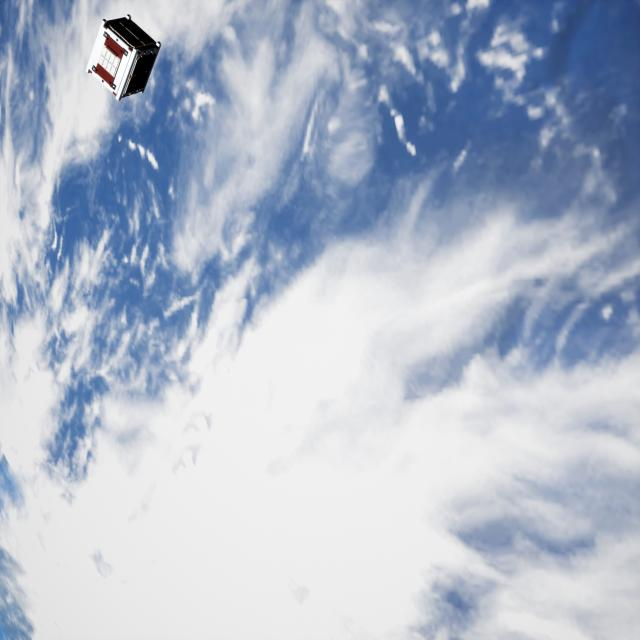medium_debris: (85, 14, 163, 98)
